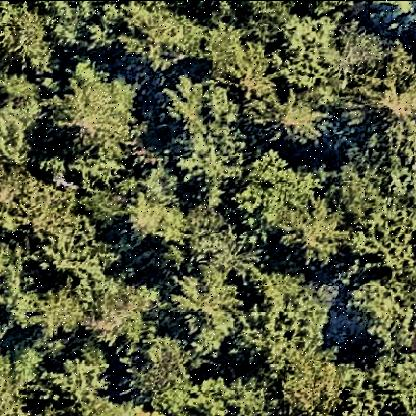tree-top: (343, 119, 416, 259), (248, 270, 346, 367), (163, 78, 241, 188), (261, 14, 347, 99), (48, 75, 136, 153), (110, 6, 213, 72), (235, 156, 324, 230), (339, 49, 416, 131), (201, 24, 281, 95), (115, 340, 191, 414), (33, 212, 112, 283), (277, 201, 350, 275), (122, 193, 192, 270), (172, 269, 247, 337), (278, 355, 359, 416), (343, 349, 414, 416), (82, 278, 155, 343), (350, 273, 416, 341), (1, 161, 67, 227), (190, 213, 258, 275), (50, 2, 122, 59), (2, 74, 46, 166), (1, 2, 49, 75), (1, 233, 35, 334), (45, 359, 117, 403), (264, 96, 324, 148), (227, 363, 284, 416), (69, 149, 135, 192), (235, 1, 297, 45), (333, 29, 393, 74), (34, 284, 81, 339), (1, 351, 37, 416), (188, 373, 234, 416), (80, 188, 129, 223)
